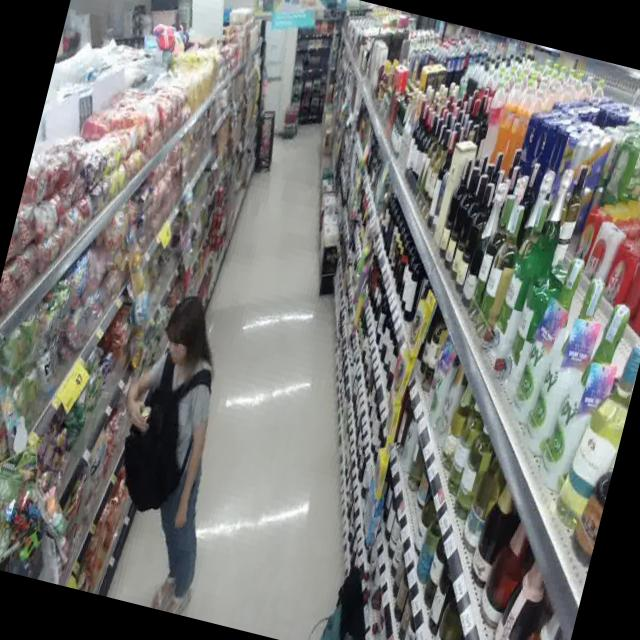shoplifting: (75, 266, 276, 618)
